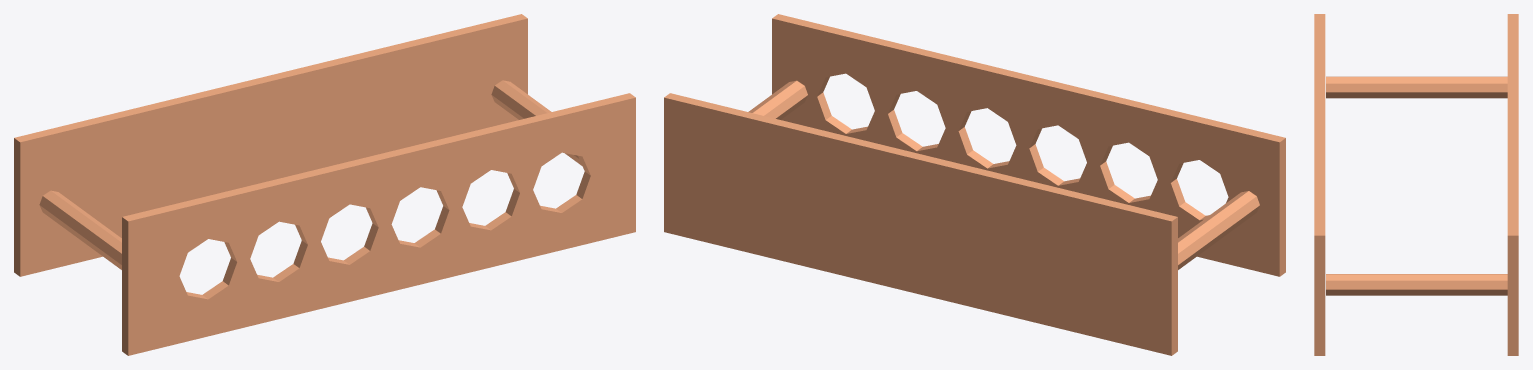
Rendered from bottle_test_tube_rack.obj.
3 views of the same model, side by side, from view 1: azimuth 30°, elevation 25°; view 2: azimuth 150°, elevation 25°; view 3: azimuth 270°, elevation 25° (orthographic). The views are drawn at different scales.
Parts seen in each view (by area): view 1: Cube.367; view 2: Cube.367; view 3: Cube.367.
Boxes of the visible parts, left/top/right/bottom form: Cube.367: left=14, top=14, right=635, bottom=355; Cube.367: left=664, top=14, right=1285, bottom=355; Cube.367: left=1314, top=14, right=1518, bottom=355.
Size of the model in its own units: 0.366 by 0.0927 by 0.1425.
Materials: 1 (1 with a texture image).
